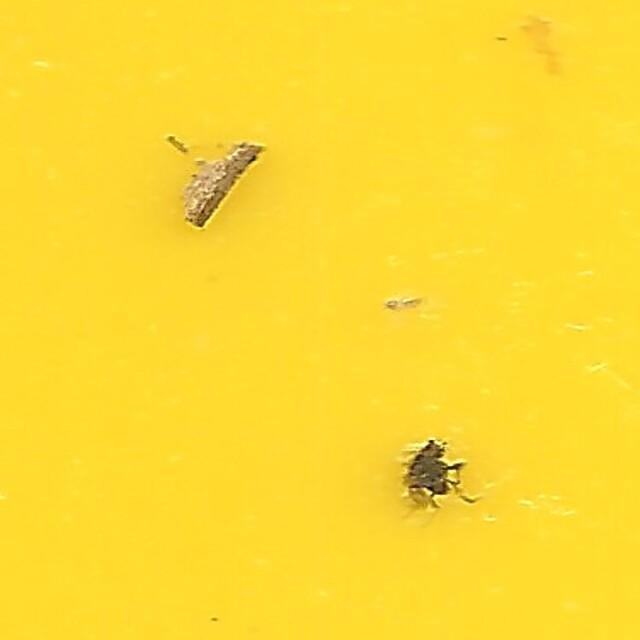Brachycera: (398, 436, 470, 510)
Hemiptera: (170, 130, 272, 230)
